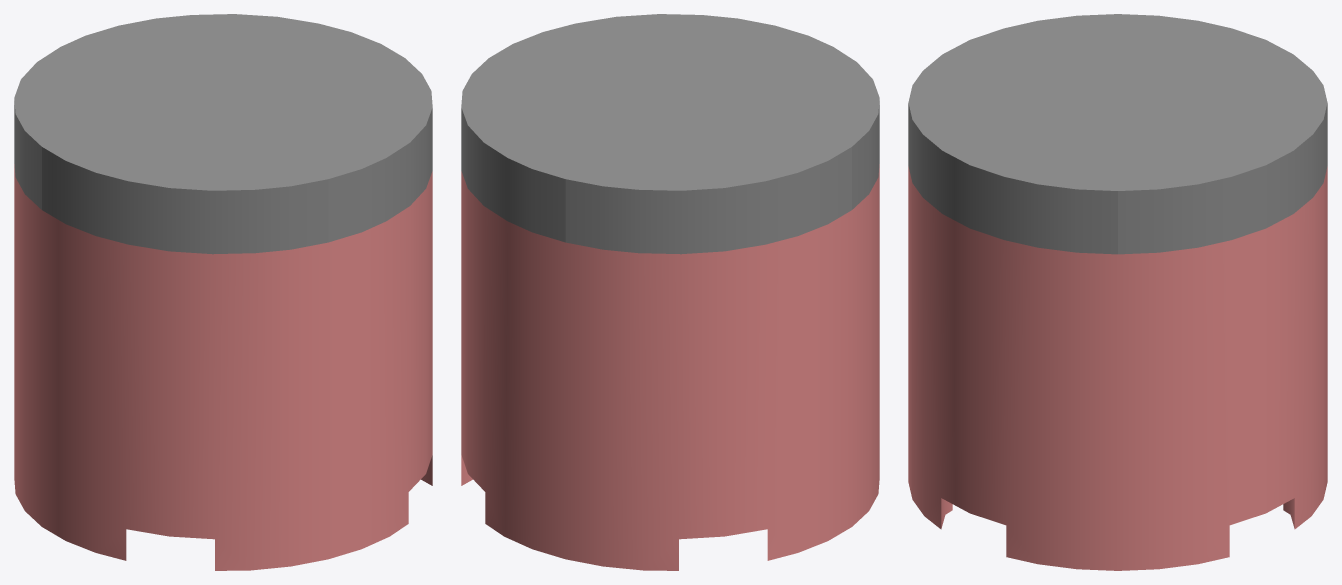
Rendered from SM_EMotor_2x2x2.gltf.
3 renders of one model, left to right at view 1: azimuth 30°, elevation 25°; view 2: azimuth 150°, elevation 25°; view 3: azimuth 270°, elevation 25°, orthographic.
Parts seen in each view (by area): view 1: SM_EMotor_2x2x2; view 2: SM_EMotor_2x2x2; view 3: SM_EMotor_2x2x2.
Boxes of the visible parts, <box> form: SM_EMotor_2x2x2: <box>14,14,432,570</box>; SM_EMotor_2x2x2: <box>461,14,879,570</box>; SM_EMotor_2x2x2: <box>908,14,1327,570</box>.
Bounding box in the file's own units: 0.6 × 0.6 × 0.6.
